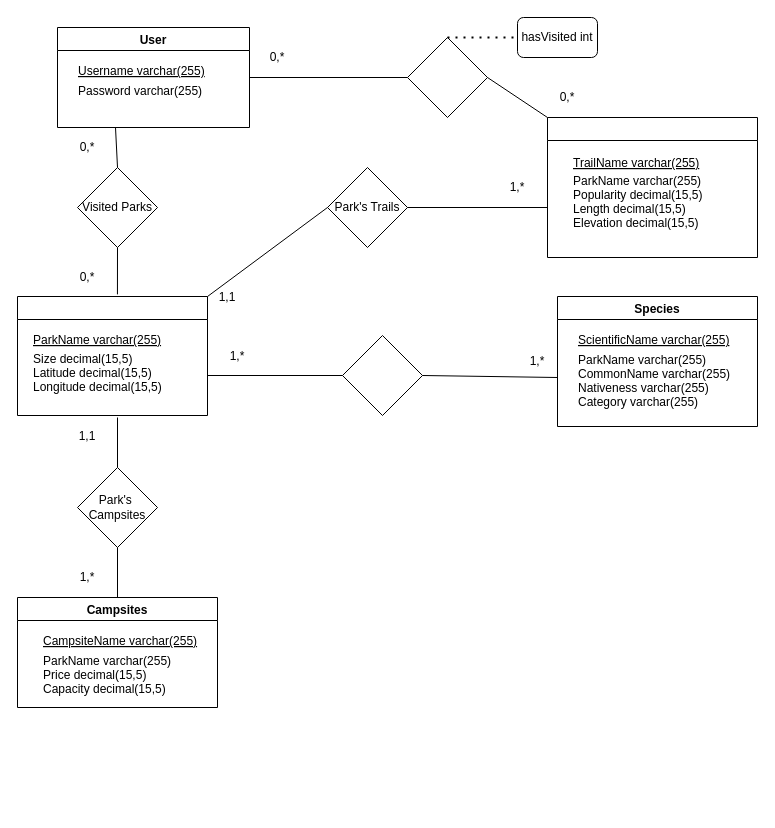
This 775x828 diagram has some shape labels left out. The box of each missing label's shape, as (x1, y1, x2, y2) in pixels:
Favorite Trails: (406, 36, 488, 118)
Park Biodiversity: (342, 334, 422, 416)
Parks: (16, 296, 208, 416)
Trails: (546, 116, 758, 258)
